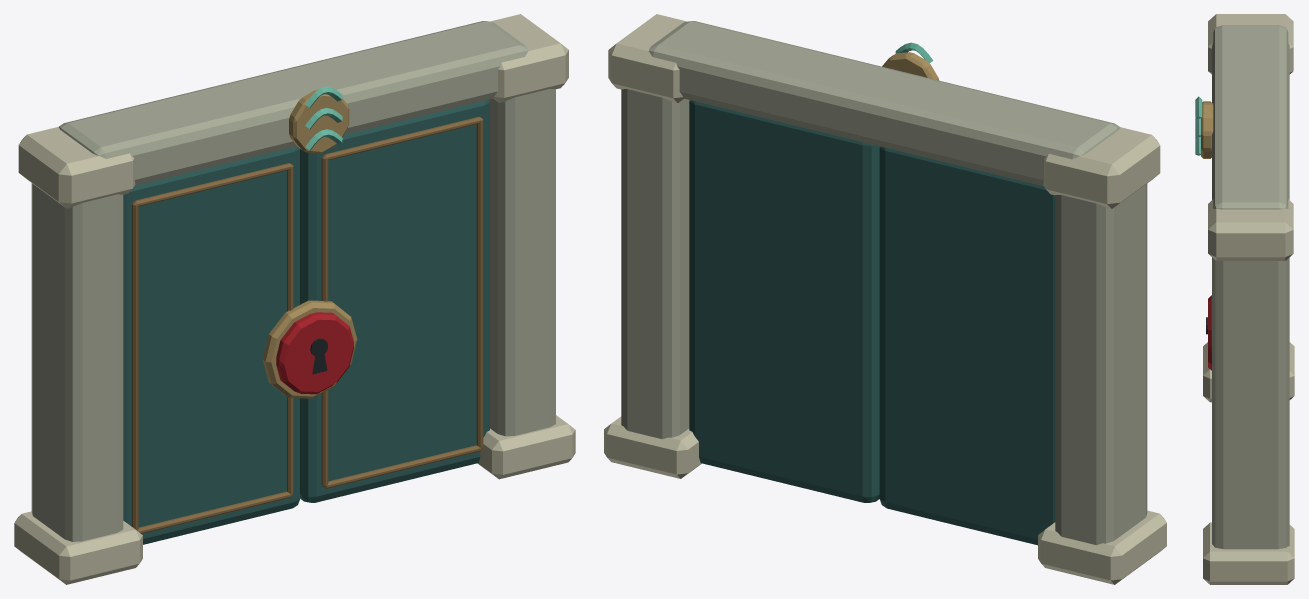
Rendered from scarlet_key_door.glb.
The picture shows the model from 3 angles, left to right: view 1: azimuth 30°, elevation 25°; view 2: azimuth 150°, elevation 25°; view 3: azimuth 270°, elevation 25°; orthographic projection. The views are drawn at different scales.
Parts seen in each view (by area): view 1: DoorPanels, DoorFrame; view 2: DoorPanels, DoorFrame; view 3: DoorFrame, DoorPanels.
Boxes of the visible parts, x1=… form: DoorPanels: x1=123, y1=99, x2=489, y2=544; DoorFrame: x1=14, y1=14, x2=575, y2=584; DoorPanels: x1=689, y1=100, x2=1055, y2=545; DoorFrame: x1=604, y1=14, x2=1166, y2=584; DoorFrame: x1=1195, y1=14, x2=1294, y2=584; DoorPanels: x1=1206, y1=295, x2=1211, y2=370.
Size of the model in its own units: 5.06 by 4.13 by 0.975.
